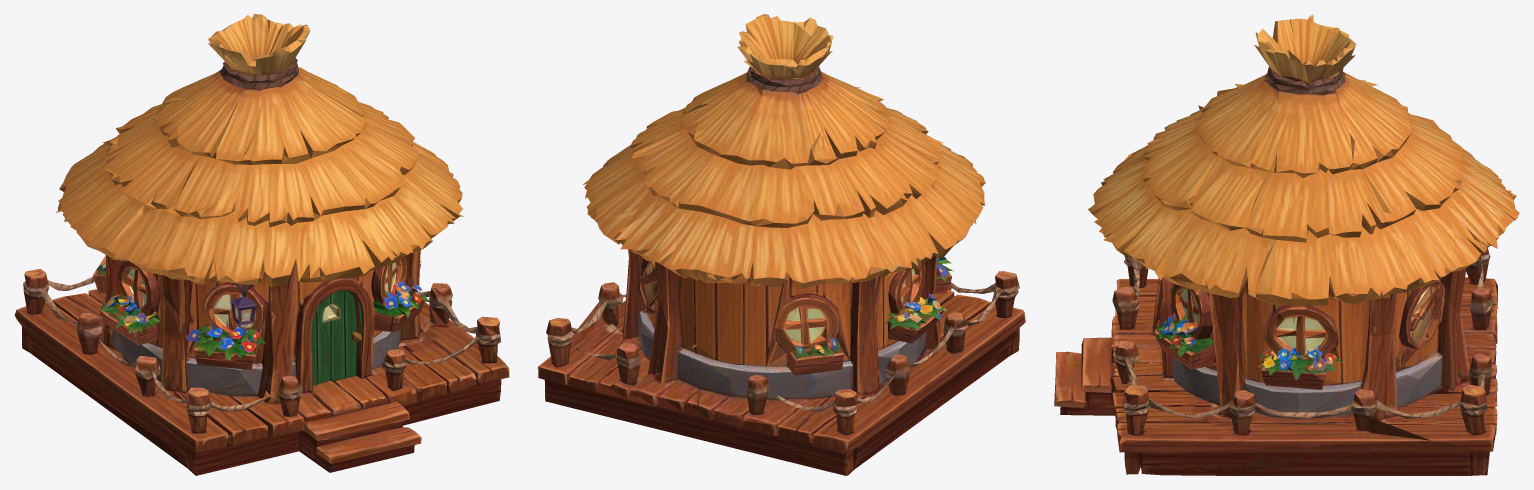
Rendered from hut_meshy.glb.
The picture shows the model from 3 angles, left to right: view 1: azimuth 30°, elevation 25°; view 2: azimuth 150°, elevation 25°; view 3: azimuth 270°, elevation 25°; orthographic projection. The views are drawn at different scales.
Parts seen in each view (by area): view 1: hut_meshy; view 2: hut_meshy; view 3: hut_meshy.
Boxes of the visible parts, x1,y1,x2,y2 form: hut_meshy: (14,14,509,475); hut_meshy: (538,14,1025,475); hut_meshy: (1054,14,1519,475).
Size of the model in its own units: 6.3 by 6 by 6.92.
1 material, 1 textured.
